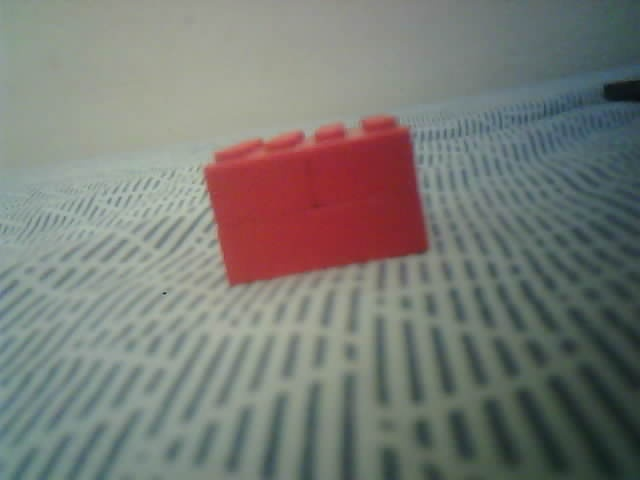lego: (202, 113, 430, 287)
